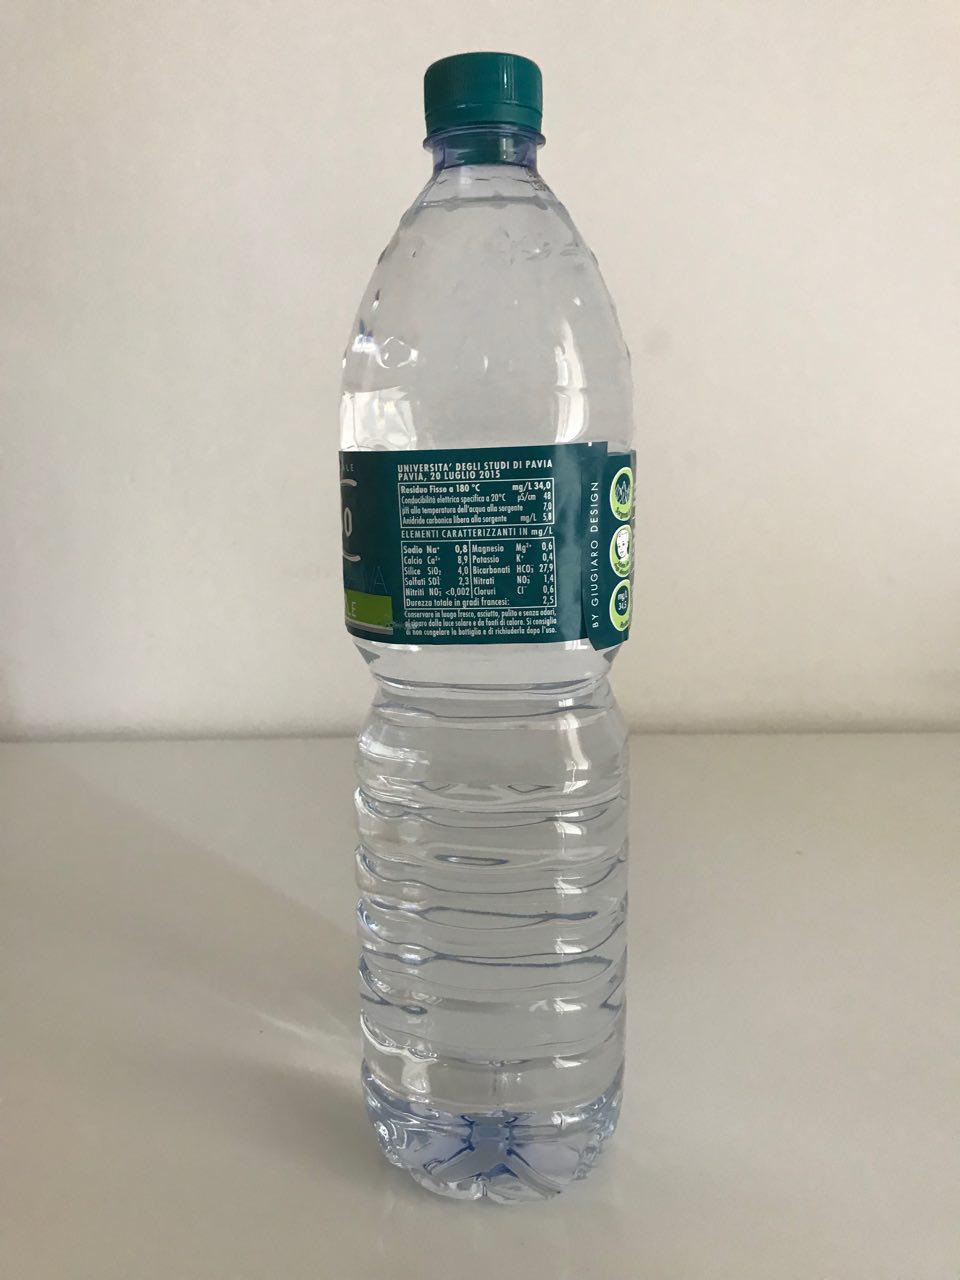san_bernardo: (336, 52, 641, 1211)
